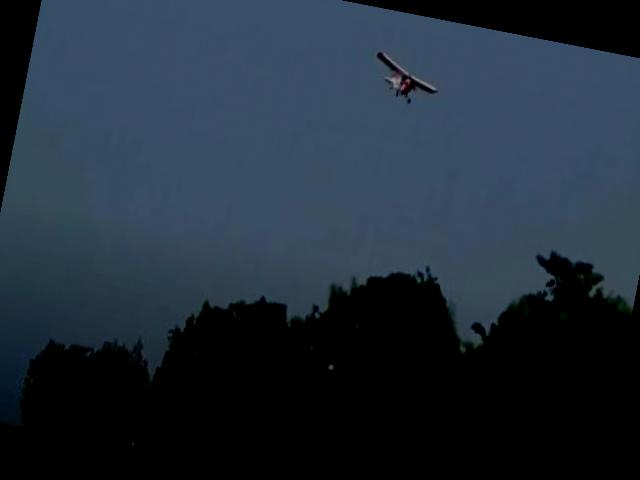uav: (362, 39, 452, 122)
